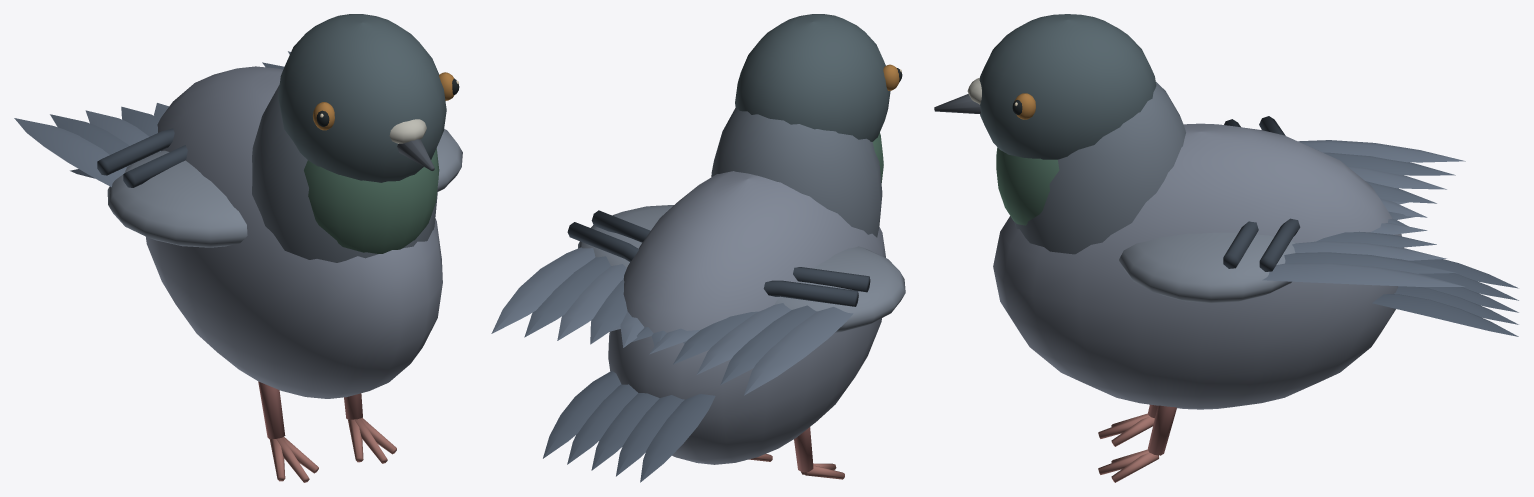
Rendered from pigeon.glb.
The picture shows the model from 3 angles, left to right: view 1: azimuth 30°, elevation 25°; view 2: azimuth 150°, elevation 25°; view 3: azimuth 270°, elevation 25°; orthographic projection. The views are drawn at different scales.
Visible parts, largest first — view 1: Pigeon_Body, Wing_mesh, Wing_mesh.001; view 2: Pigeon_Body, Wing_mesh, Wing_mesh.001; view 3: Pigeon_Body, Wing_mesh.001, Wing_mesh.
Boxes of the visible parts, x1,y1,x2,y2 form: Pigeon_Body: (70, 14, 459, 482); Wing_mesh: (14, 103, 247, 247); Wing_mesh.001: (157, 51, 462, 191); Pigeon_Body: (543, 14, 902, 482); Wing_mesh: (591, 246, 905, 395); Wing_mesh.001: (491, 205, 693, 347); Pigeon_Body: (934, 14, 1518, 482); Wing_mesh.001: (1119, 188, 1464, 303); Wing_mesh: (1224, 116, 1465, 226).
Size of the model in its own units: 0.3385 by 0.4529 by 0.5503.
